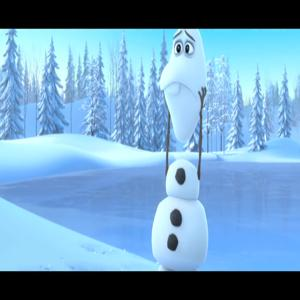olaf: (155, 32, 214, 270)
